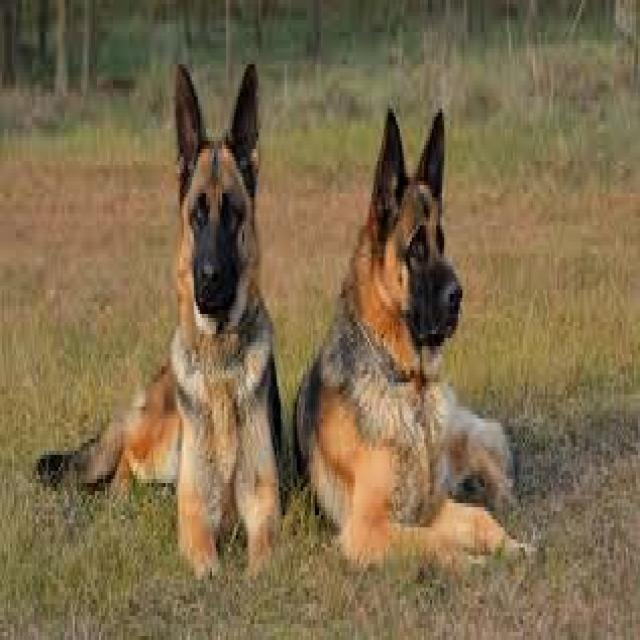Dog: (31, 56, 290, 586), (294, 98, 538, 577)
